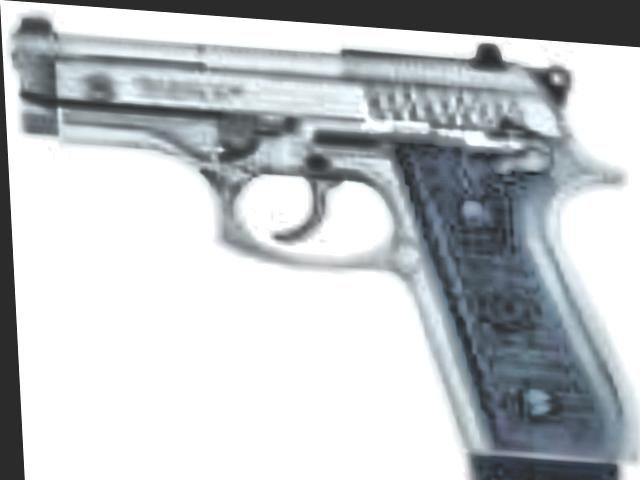pistol: (4, 0, 635, 480)
